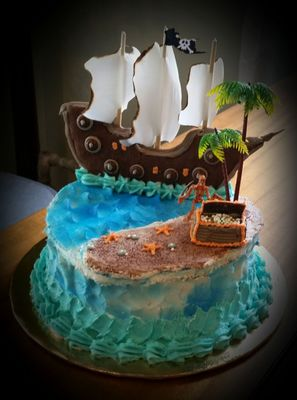sushi: (30, 51, 282, 380)
